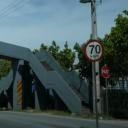speed_limit_70: (84, 38, 103, 62)
